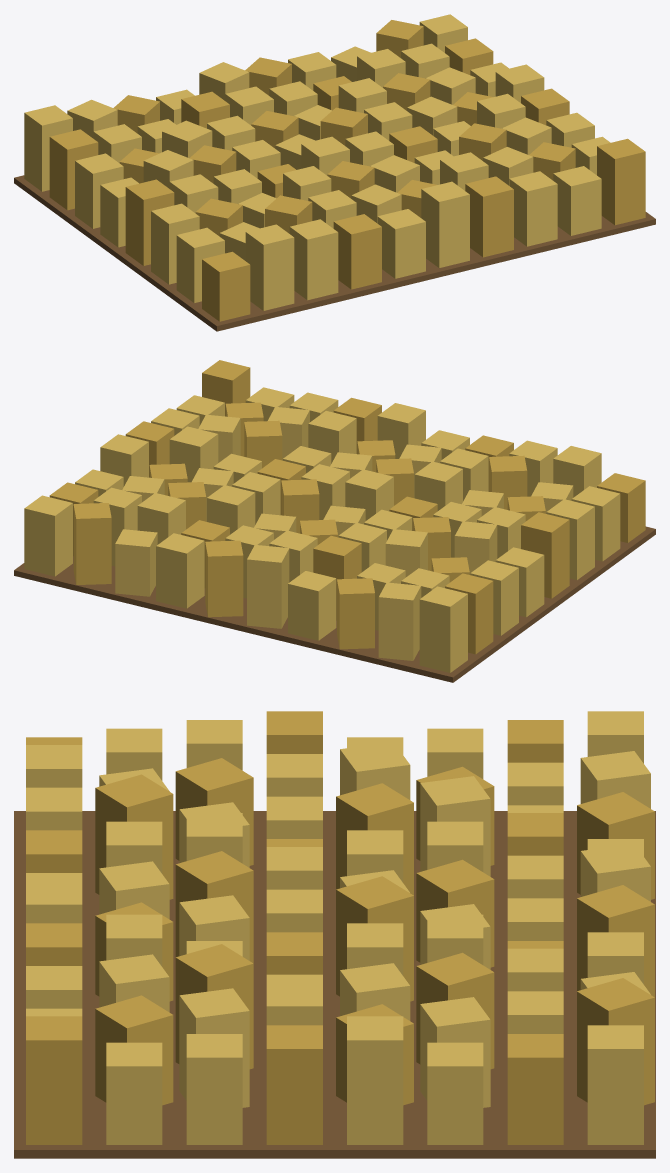
Rendered from wheat.glb.
3 views of the same model, one above another, from view 1: azimuth 30°, elevation 25°; view 2: azimuth 150°, elevation 25°; view 3: azimuth 270°, elevation 25° (orthographic). The views are drawn at different scales.
Parts seen in each view (by area): view 1: wheat; view 2: wheat; view 3: wheat.
Boxes of the visible parts, x1=… form: wheat: x1=14, y1=14, x2=655, y2=331; wheat: x1=14, y1=360, x2=655, y2=682; wheat: x1=14, y1=711, x2=655, y2=1158.
Size of the model in its own units: 10 by 1.56 by 8.
